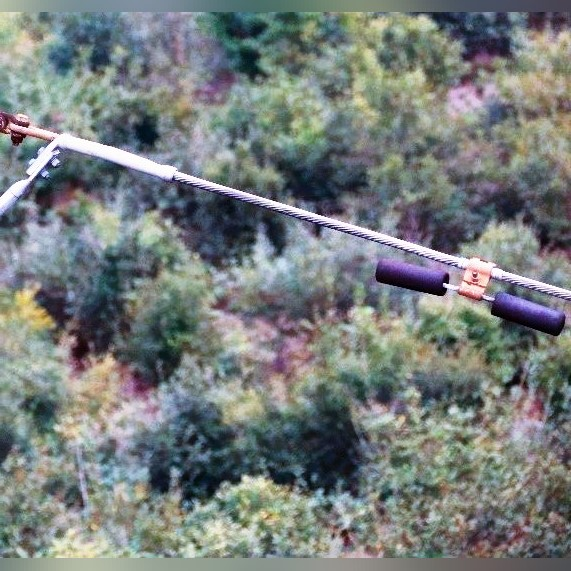Shockproof hammer: (365, 232, 568, 349)
